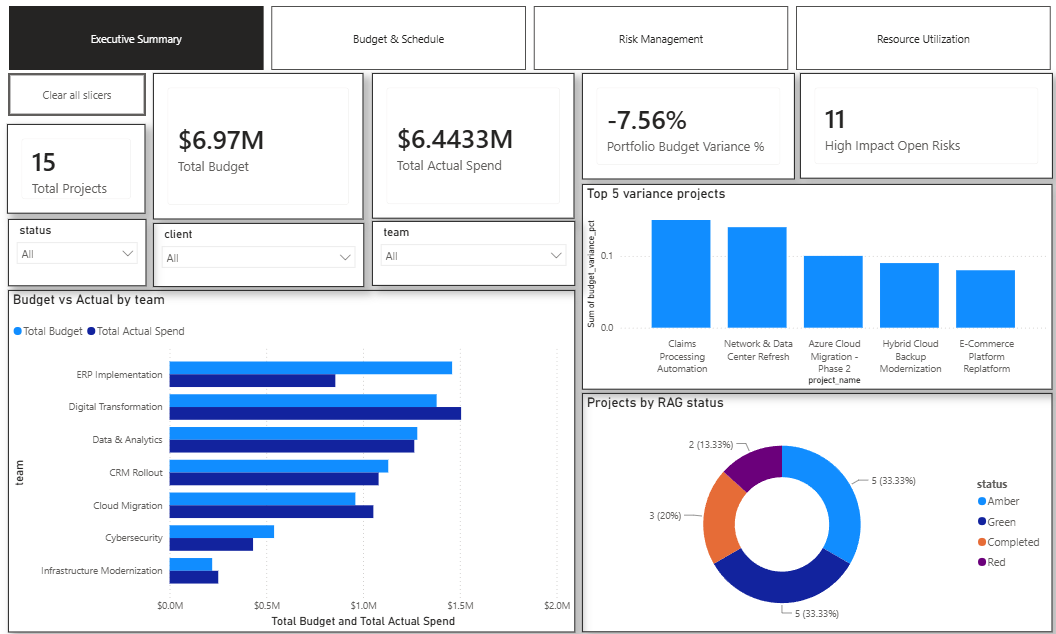

What the dashboard file says about the page in this screenshot:
{"tool":"powerbi","page":{"name":"Executive Summary","canvas":[1325,800],"ordinal":0},"visuals":[{"type":"cardVisual","fields":{"Data":["_Measures.Total Projects"]},"box":[9,157,173,112],"z":0},{"type":"cardVisual","fields":{"Data":["_Measures.Total Budget"]},"box":[191,94,263,183],"z":1000},{"type":"cardVisual","fields":{"Data":["_Measures.Total Actual Spend"]},"box":[465,94,253,182],"z":2000},{"type":"cardVisual","fields":{"Data":["_Measures.Portfolio Budget Variance %"]},"box":[728,94,266,133],"z":3000},{"type":"cardVisual","fields":{"Data":["_Measures.High Impact Open Risks"]},"box":[1000,94,316,132],"z":4000},{"type":"cardVisual","fields":{"Data":["_Measures.Milestone Completion %"]},"box":[297.9,458.5,243,107],"z":5000},{"type":"donutChart","title":"Projects by RAG status","fields":{"Category":["Projects.status"],"Y":["_Measures.Total Projects"]},"box":[727.9,493.8,587.9,298.5],"z":6000},{"type":"clusteredBarChart","title":"Budget vs Actual by team\t","fields":{"Category":["Projects.team"],"Y":["_Measures.Total Budget","_Measures.Total Actual Spend"]},"box":[10.2,365,708.8,427.5],"z":7000},{"type":"clusteredColumnChart","title":"Top 5 variance projects","fields":{"Category":["Projects.project_name"],"Y":["Sum(Projects.budget_variance_pct)"]},"box":[727.9,232.1,587.9,256.6],"z":8000},{"type":"slicer","fields":{"Values":["Projects.client"]},"box":[191.2,281.2,263.8,80],"z":9000},{"type":"slicer","fields":{"Values":["Projects.team"]},"box":[465.2,279.1,253.7,81.5],"z":10000},{"type":"slicer","fields":{"Values":["Projects.status"]},"box":[10,276,173,84],"z":11000},{"type":"actionButton","box":[10,94,172.5,53.8],"z":12000},{"type":"pageNavigator","box":[11,10,1305,80],"z":13000}]}

Visuals, with their boxes in screenshot pixels (x1, y1, x2, y2), scaled from the page's 1325x800 canvas onto the 1056x634 screenshot:
cardVisual - _Measures.Total Projects: (left=7, top=124, right=145, bottom=213)
cardVisual - _Measures.Total Budget: (left=152, top=74, right=362, bottom=220)
cardVisual - _Measures.Total Actual Spend: (left=371, top=74, right=572, bottom=219)
cardVisual - _Measures.Portfolio Budget Variance %: (left=580, top=74, right=792, bottom=180)
cardVisual - _Measures.High Impact Open Risks: (left=797, top=74, right=1049, bottom=179)
cardVisual - _Measures.Milestone Completion %: (left=237, top=363, right=431, bottom=448)
"Projects by RAG status" donutChart: (left=580, top=391, right=1049, bottom=628)
"Budget vs Actual by team	" clusteredBarChart: (left=8, top=289, right=573, bottom=628)
"Top 5 variance projects" clusteredColumnChart: (left=580, top=184, right=1049, bottom=387)
slicer - Projects.client: (left=152, top=223, right=363, bottom=286)
slicer - Projects.team: (left=371, top=221, right=573, bottom=286)
slicer - Projects.status: (left=8, top=219, right=146, bottom=285)
actionButton: (left=8, top=74, right=145, bottom=117)
pageNavigator: (left=9, top=8, right=1049, bottom=71)
